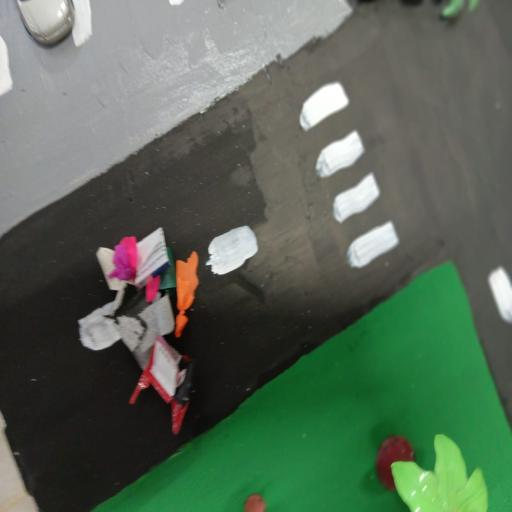trash: (69, 224, 225, 436)
